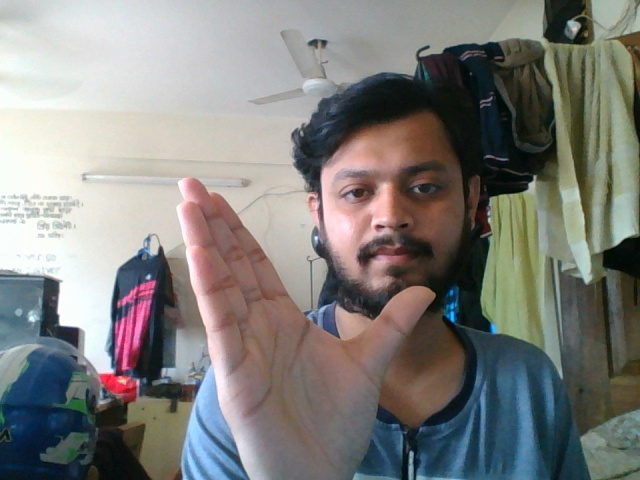a: (166, 164, 446, 480)
